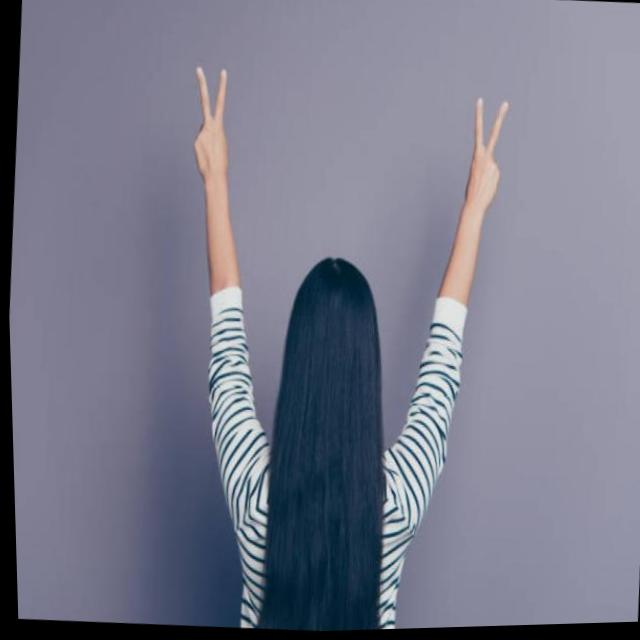no helmet: (263, 256, 406, 443)
